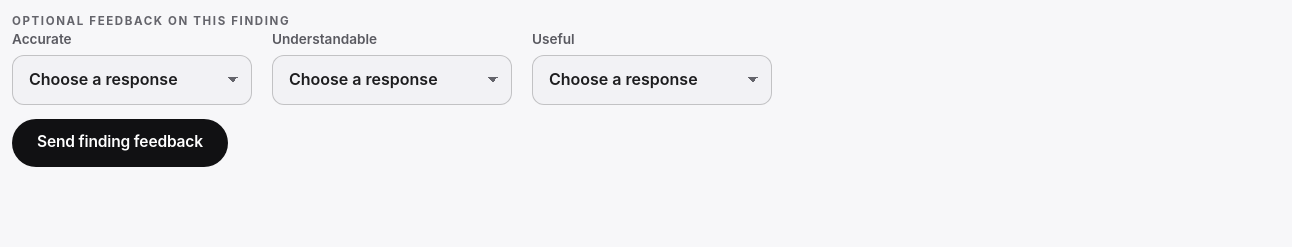
Test: submits three separate finding ratings without sending finding prose
Select "Yes" in the dropdown labelled "Accurate" at (132,80), box x1=12 y1=55 x2=252 y2=105
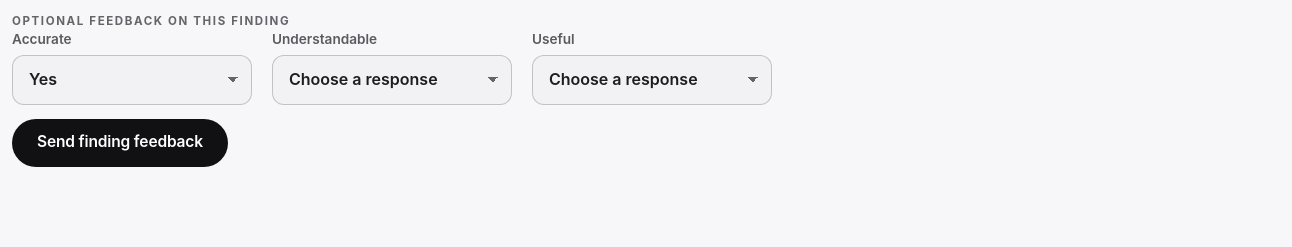
Select "No" in the dropdown labelled "Understandable" at (392,80), box x1=272 y1=55 x2=512 y2=105
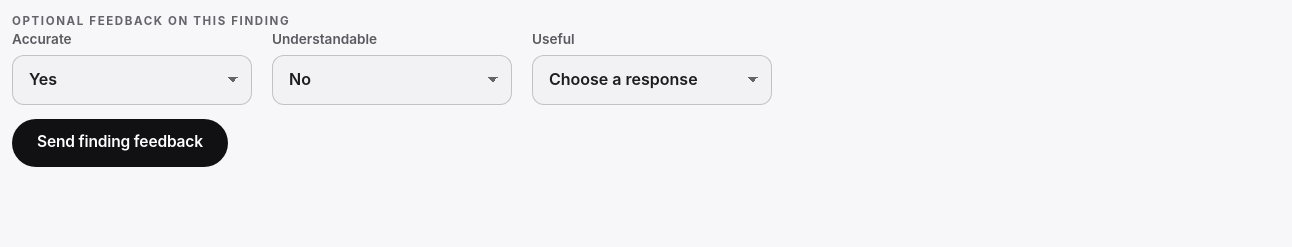
Select "Not sure" in the dropdown labelled "Useful" at (652,80), box x1=532 y1=55 x2=772 y2=105
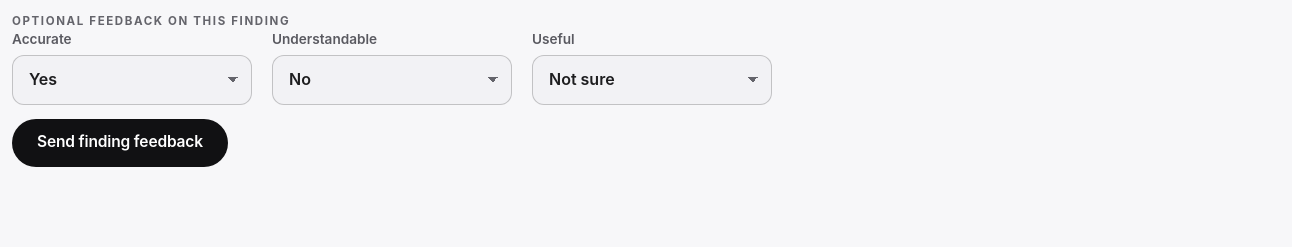
Click the button "Send finding feedback".
click(120, 143)  # box x1=12 y1=119 x2=228 y2=167
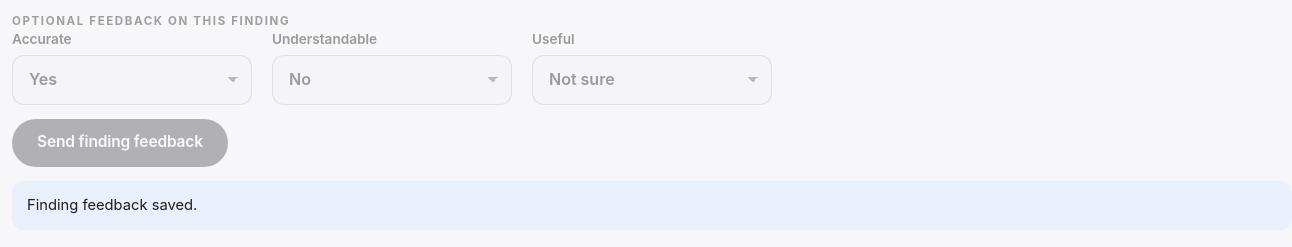
Expected: the text "Finding feedback saved." is shown, x1=12 y1=181 x2=1291 y2=230
